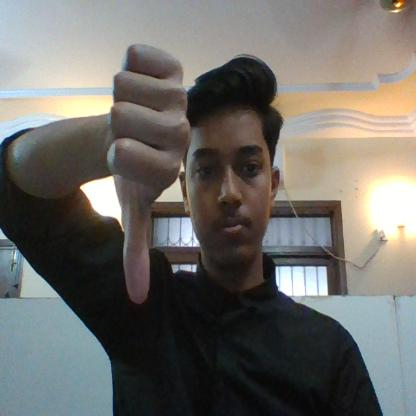thumbs-down: (106, 40, 183, 306)
